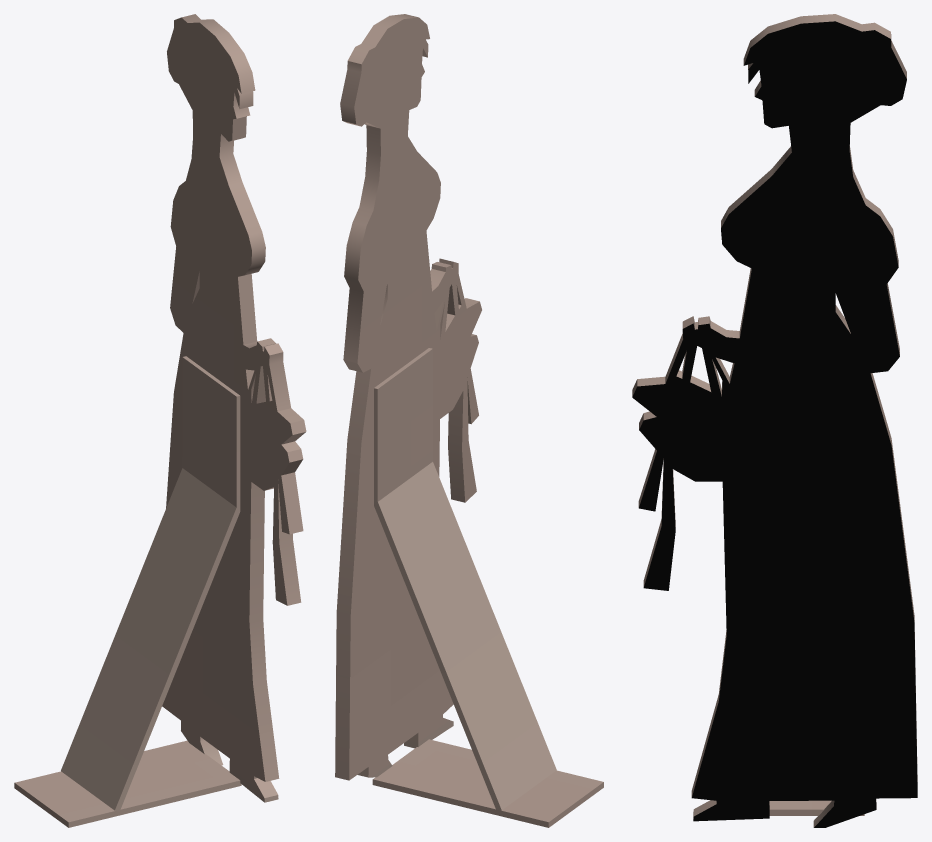
File: Dame 3.FBX
The picture shows the model from 3 angles, left to right: view 1: azimuth 30°, elevation 25°; view 2: azimuth 150°, elevation 25°; view 3: azimuth 270°, elevation 25°; orthographic projection. The views are drawn at different scales.
Visible parts, largest first — view 1: Dame 3; view 2: Dame 3; view 3: Dame 3.
Boxes of the visible parts, x1,y1,x2,y2 form: Dame 3: (14, 14, 306, 827); Dame 3: (335, 14, 603, 827); Dame 3: (632, 14, 917, 827).
Bounding box in the file's own units: 40.25 × 153 × 49.11.
